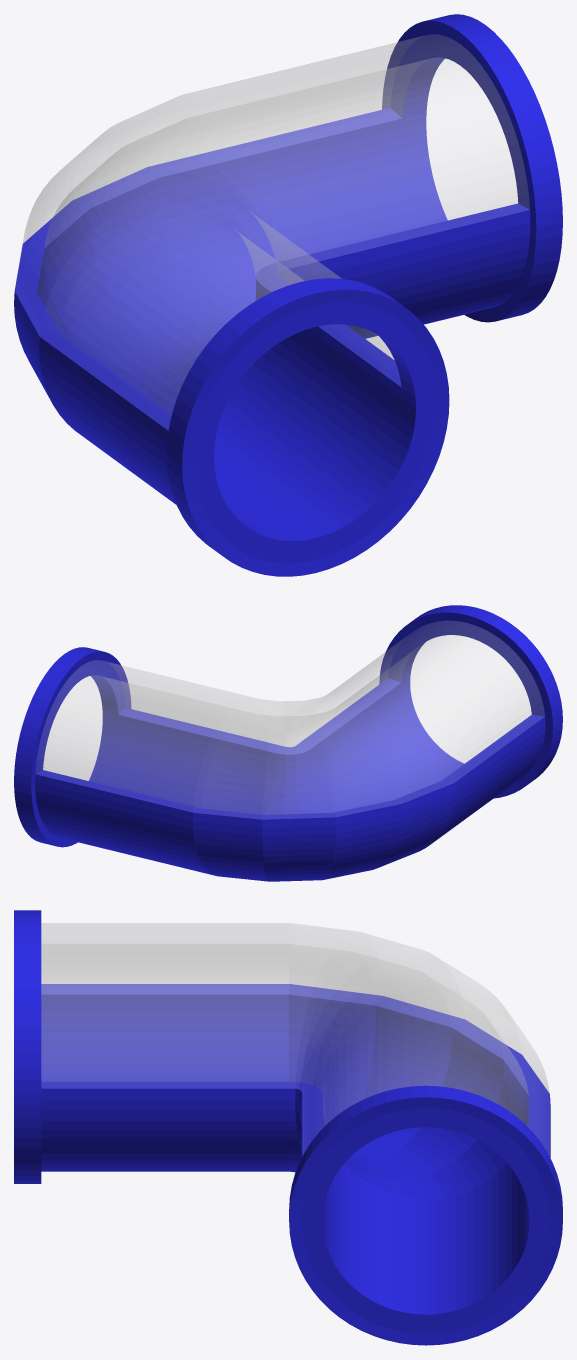
File: pipe corner.fbx
The picture shows the model from 3 angles, top to bottom: view 1: azimuth 30°, elevation 25°; view 2: azimuth 150°, elevation 25°; view 3: azimuth 270°, elevation 25°; orthographic projection. The views are drawn at different scales.
Visible parts, largest first — view 1: Cylinder.003; view 2: Cylinder.003; view 3: Cylinder.003.
Boxes of the visible parts, x1,y1,x2,y2 form: Cylinder.003: [14, 14, 562, 576]; Cylinder.003: [14, 605, 562, 881]; Cylinder.003: [14, 910, 562, 1345].
Bounding box in the file's own units: 441 × 220 × 441.
